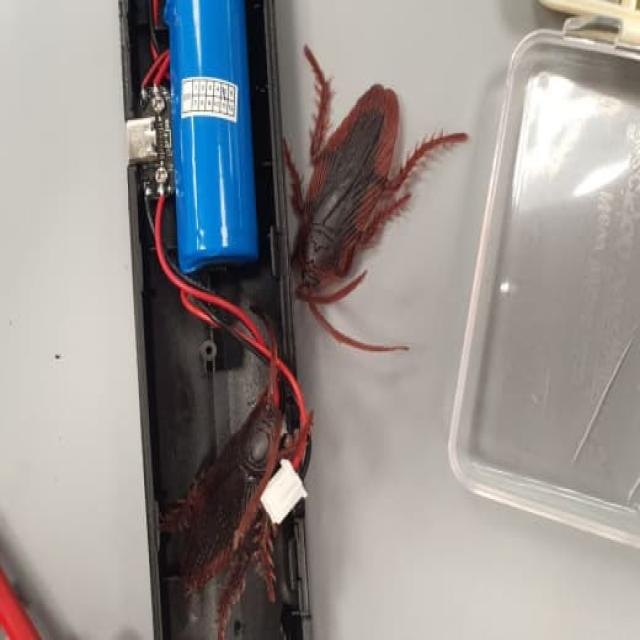Cockroach: (277, 30, 473, 361), (156, 371, 314, 635)
